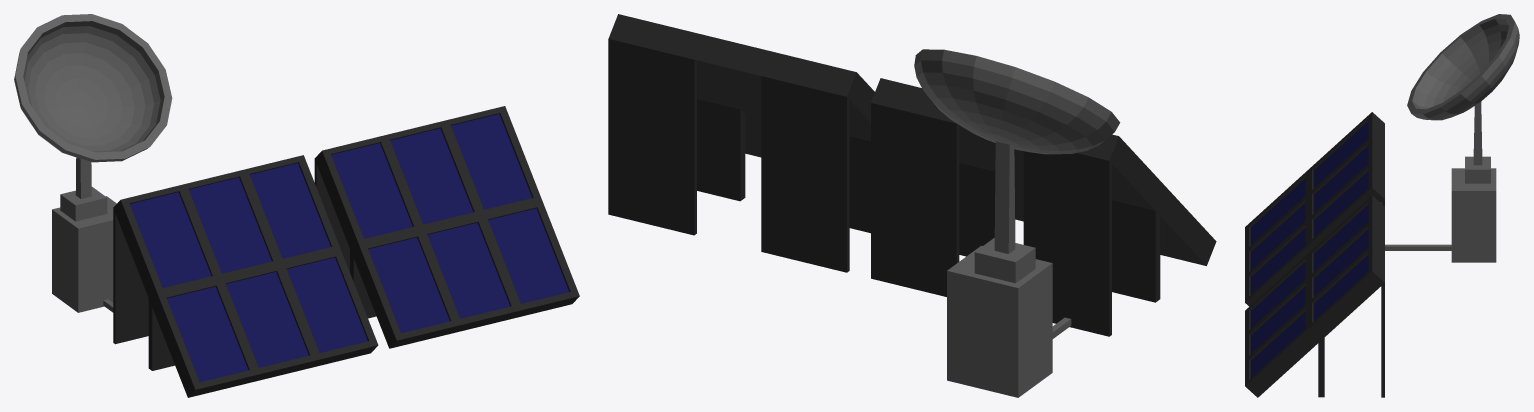
File: panneau_solaire_2.fbx
3 views of the same model, side by side, from view 1: azimuth 30°, elevation 25°; view 2: azimuth 150°, elevation 25°; view 3: azimuth 270°, elevation 25° (orthographic). The views are drawn at different scales.
Parts seen in each view (by area): view 1: Cube; view 2: Cube; view 3: Cube.
Part boxes in pixels (x1,y1,x2,y2): Cube: [14, 14, 579, 397]; Cube: [608, 14, 1216, 397]; Cube: [1245, 14, 1519, 397].
Bounding box in the file's own units: 471 × 278 × 306.
